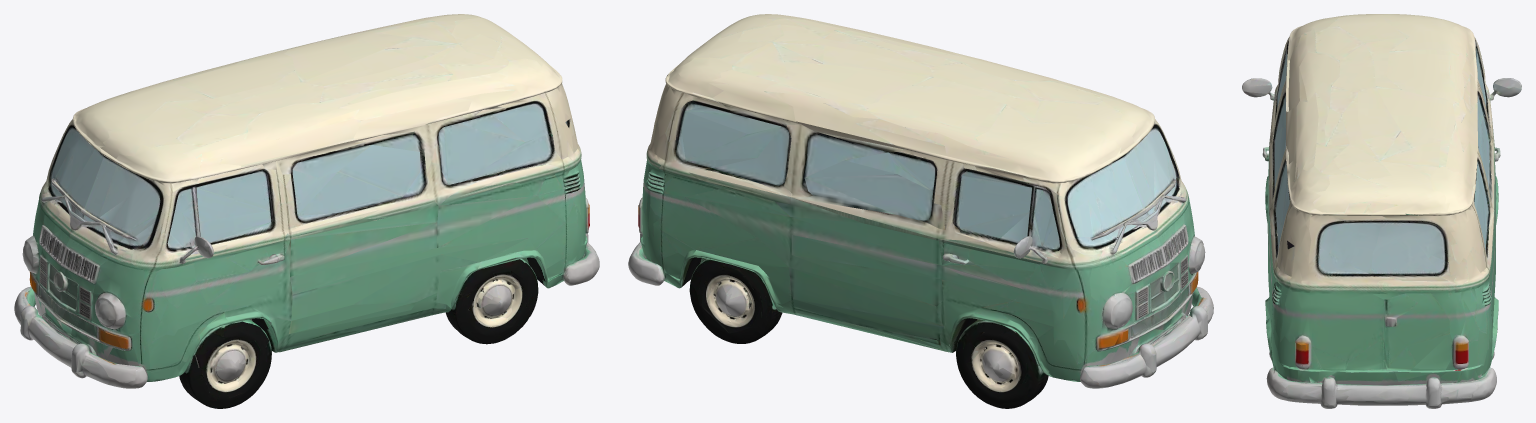
Rendered from getkong-mcar2.glb.
The picture shows the model from 3 angles, left to right: view 1: azimuth 30°, elevation 25°; view 2: azimuth 150°, elevation 25°; view 3: azimuth 270°, elevation 25°; orthographic projection. The views are drawn at different scales.
Parts seen in each view (by area): view 1: output_unwrapped; view 2: output_unwrapped; view 3: output_unwrapped.
Part boxes in pixels (x1=…): output_unwrapped: x1=14, y1=14, x2=599, y2=408; output_unwrapped: x1=628, y1=14, x2=1213, y2=408; output_unwrapped: x1=1242, y1=14, x2=1521, y2=408.
Size of the model in its own units: 1.9 by 0.9187 by 0.9592.
1 material, 1 textured.
